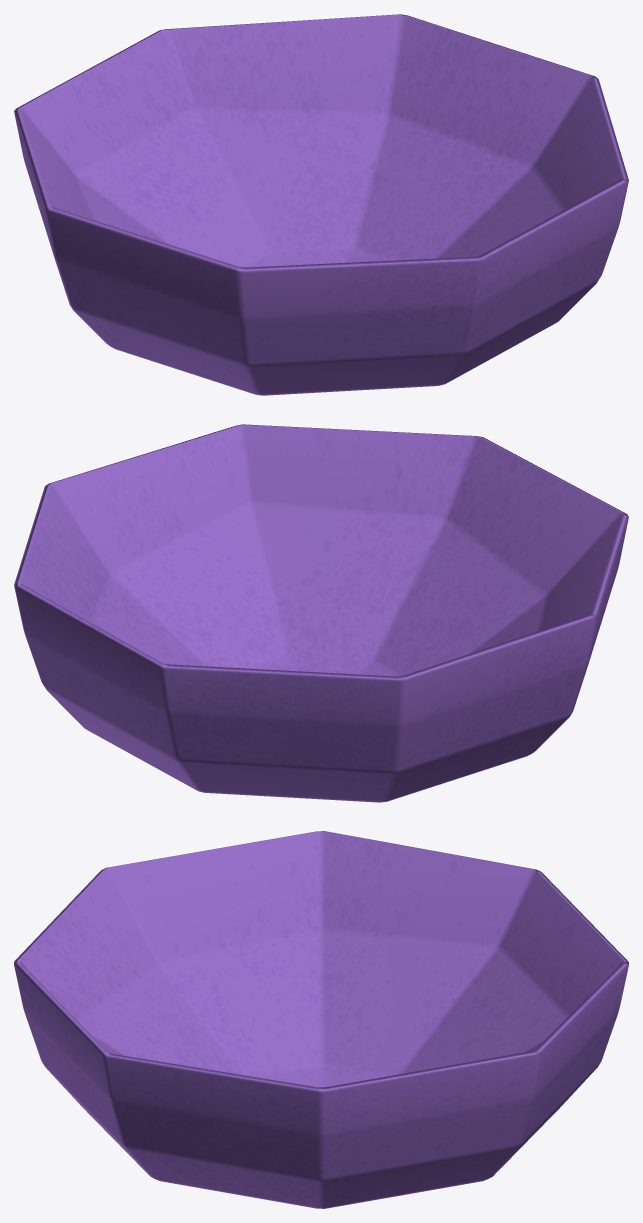
Rendered from Bowl_exp.fbx.
The picture shows the model from 3 angles, top to bottom: view 1: azimuth 30°, elevation 25°; view 2: azimuth 150°, elevation 25°; view 3: azimuth 270°, elevation 25°; orthographic projection. The views are drawn at different scales.
Visible parts, largest first — view 1: pCylinder1; view 2: pCylinder1; view 3: pCylinder1.
Part boxes in pixels (<box>): pCylinder1: <box>14,14,628,395</box>; pCylinder1: <box>14,424,628,802</box>; pCylinder1: <box>14,831,628,1208</box>.
Bounding box in the file's own units: 2.09 × 0.7393 × 2.09.
Materials: 1 (1 with a texture image).
